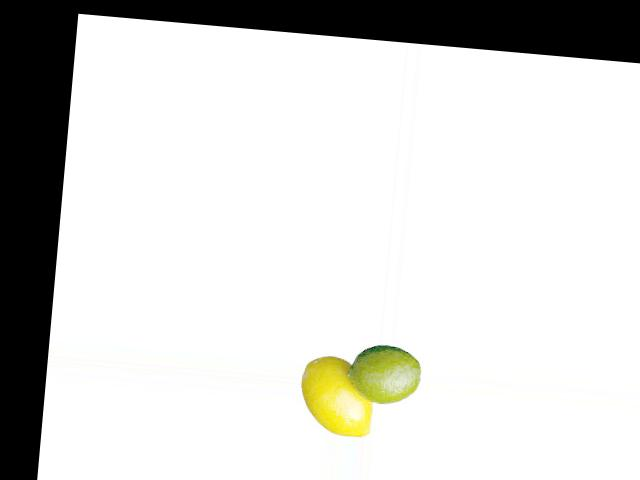lemon: (334, 337, 425, 418)
